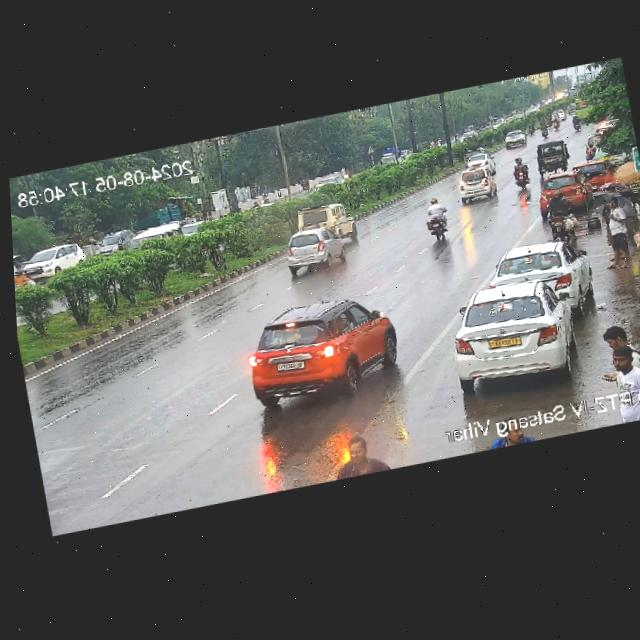car: (232, 287, 402, 417), (440, 274, 581, 392), (491, 233, 588, 312), (282, 221, 348, 276), (16, 239, 89, 283), (530, 166, 592, 214), (293, 198, 357, 243), (454, 165, 498, 204), (532, 137, 573, 174), (579, 128, 608, 161), (460, 151, 493, 171), (500, 128, 529, 150)
motorcycle: (544, 185, 579, 246), (422, 194, 455, 244), (509, 153, 535, 192), (539, 117, 548, 137), (573, 114, 582, 129), (552, 116, 560, 129)
person: (599, 189, 638, 274), (327, 426, 387, 480), (601, 337, 640, 391), (603, 322, 630, 353), (603, 164, 618, 183)
